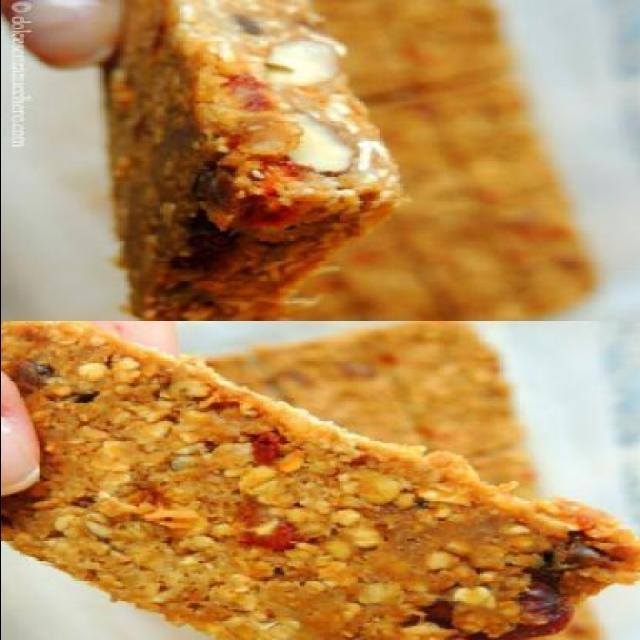Cereal bar packaged: (15, 336, 628, 636), (92, 7, 388, 318)
